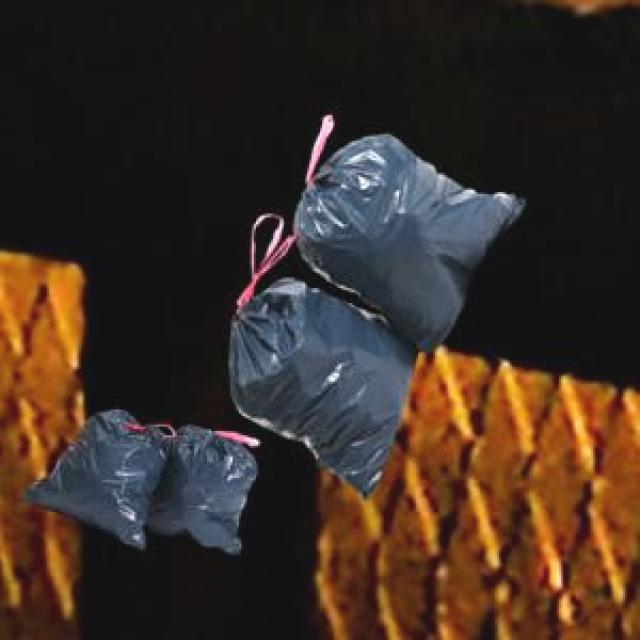Trashbag: (307, 133, 510, 331), (225, 281, 407, 458), (20, 401, 174, 553), (147, 420, 261, 560)
